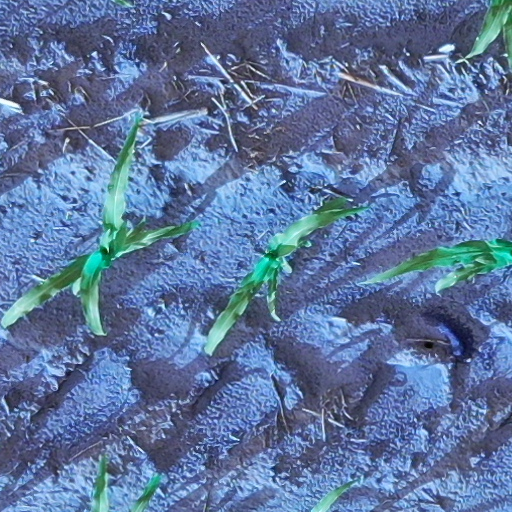planta: (199, 191, 369, 359)
